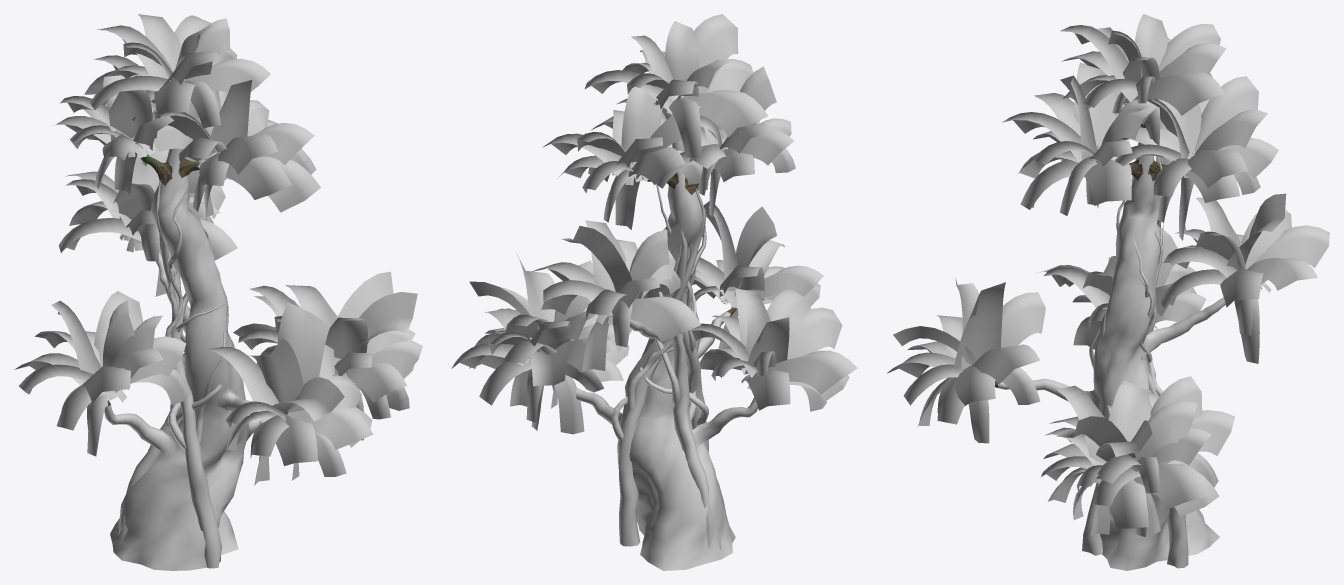
File: Plant6_1_L0.fbx
3 views of the same model, side by side, from view 1: azimuth 30°, elevation 25°; view 2: azimuth 150°, elevation 25°; view 3: azimuth 270°, elevation 25° (orthographic). The views are drawn at different scales.
Parts seen in each view (by area): view 1: polySurface2038; view 2: polySurface2038; view 3: polySurface2038.
Part boxes in pixels (x1,y1,x2,y2): polySurface2038: [14, 14, 422, 570]; polySurface2038: [451, 14, 857, 570]; polySurface2038: [887, 14, 1329, 570].
Size of the model in its own units: 723 by 934 by 718.
